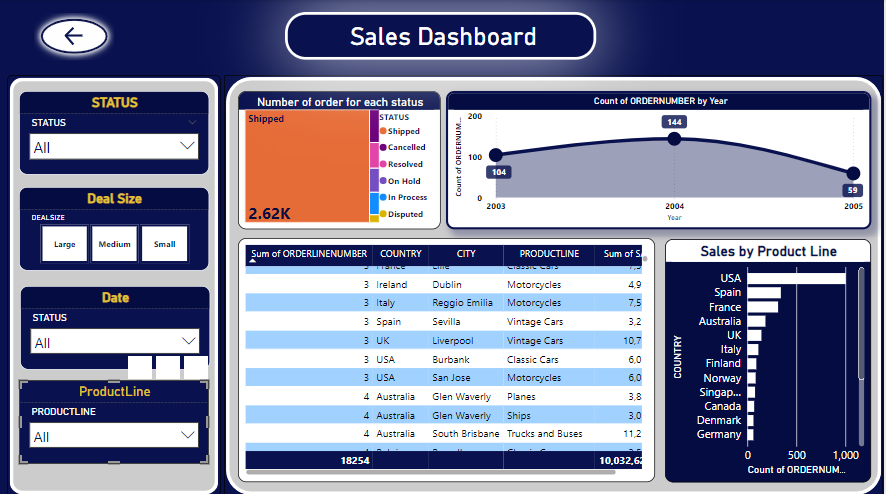

Layout of this report page (visuals, bound fields, positions):
{"tool":"powerbi","page":{"name":"Page 2","canvas":[1280,720],"ordinal":1},"visuals":[{"type":"shape","box":[326.7,110,953.3,610],"z":0},{"type":"treemap","title":"Number of order for each status","fields":{"Group":["Sales Data.STATUS"],"Values":["CountNonNull(Sales Data.ORDERNUMBER)"]},"box":[346.7,133.3,293.3,200],"z":1000},{"type":"shape","title":"Slisers","box":[13,109.9,309.4,610.1],"z":2000},{"type":"textbox","title":"Sales Dashboard ","box":[414.9,18.8,449.6,69.4],"z":3000},{"type":"slicer","title":"Date","fields":{"Values":["Sales Data.STATUS"]},"box":[31.8,414.9,274.7,121.4],"z":4000},{"type":"lineChart","fields":{"Y":["Count(Sales Data.ORDERNUMBER)"],"Category":["Sales Data.ORDERDATE.Variation.Date Hierarchy.Year"]},"box":[648.3,133.3,615,200],"z":5000},{"type":"tableEx","title":"Table Data","fields":{"Values":["Sum(Sales Data.ORDERLINENUMBER)","Sales Data.COUNTRY","Sales Data.CITY","Sales Data.PRODUCTLINE","Sum(Sales Data.SALES)"]},"box":[346.7,345,603.3,353.3],"z":6000},{"type":"slicer","title":"ProductLine","fields":{"Values":["Sales Data.PRODUCTLINE"]},"box":[30.4,550.8,274.7,121.4],"z":7000},{"type":"clusteredBarChart","title":"Sales by Product Line","fields":{"Category":["Sales Data.COUNTRY"],"Y":["CountNonNull(Sales Data.ORDERNUMBER)"]},"box":[965,346.7,298.3,351.7],"z":8000},{"type":"actionButton","box":[52.2,19.4,116.4,70.1],"z":9000},{"type":"slicer","title":"Deal Size","fields":{"Values":["Sales Data.DEALSIZE"]},"box":[30.4,271.8,274.7,121.4],"z":10000},{"type":"slicer","title":"STATUS","fields":{"Values":["Sales Data.STATUS"]},"box":[30.4,133,274.7,121.4],"z":11000}]}

Visuals, with their boxes in screenshot pixels (x1, y1, x2, y2), scaled from the page's 1280x720 canvas onto the 886x494 screenshot:
shape: [left=226, top=75, right=885, bottom=493]
"Number of order for each status" treemap: [left=240, top=91, right=443, bottom=229]
"Slisers" shape: [left=9, top=75, right=223, bottom=493]
"Sales Dashboard " textbox: [left=287, top=13, right=598, bottom=61]
"Date" slicer: [left=22, top=285, right=212, bottom=368]
lineChart - Count(Sales Data.ORDERNUMBER) x Sales Data.ORDERDATE.Variation.Date Hierarchy.Year: [left=449, top=91, right=874, bottom=229]
"Table Data" tableEx: [left=240, top=237, right=658, bottom=479]
"ProductLine" slicer: [left=21, top=378, right=211, bottom=461]
"Sales by Product Line" clusteredBarChart: [left=668, top=238, right=874, bottom=479]
actionButton: [left=36, top=13, right=117, bottom=61]
"Deal Size" slicer: [left=21, top=186, right=211, bottom=270]
"STATUS" slicer: [left=21, top=91, right=211, bottom=175]
